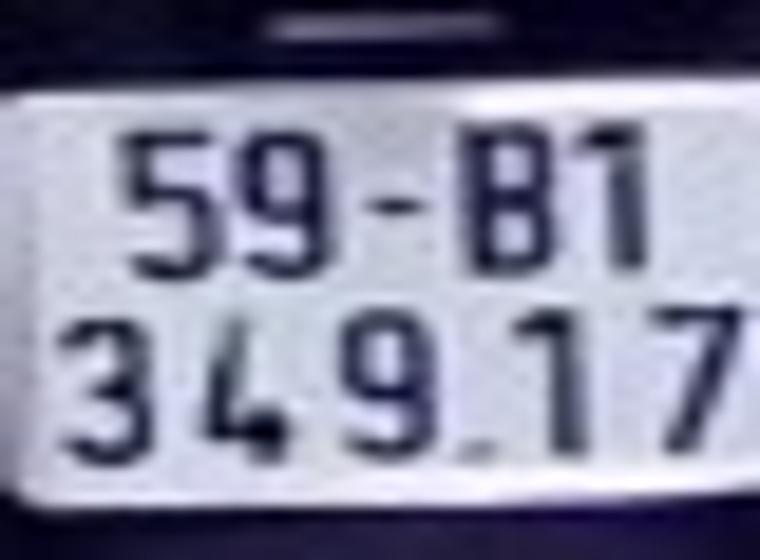-: (360, 189, 430, 219)
.: (448, 418, 502, 481)
1: (516, 300, 601, 458), (587, 110, 661, 273)
3: (49, 302, 167, 477)
4: (194, 312, 302, 474)
5: (113, 121, 230, 288)
7: (640, 286, 745, 457)
9: (343, 291, 444, 460), (238, 118, 335, 285)
B: (454, 112, 564, 282)
